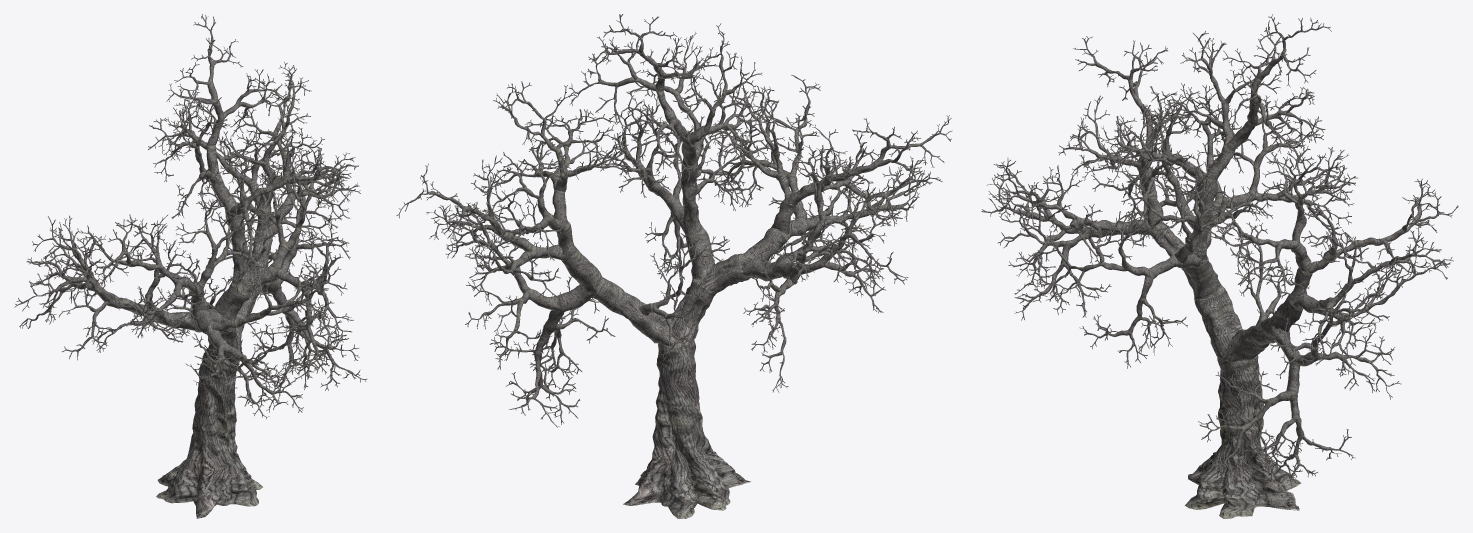
The model's file is linden.obj.
3 renders of one model, left to right at view 1: azimuth 30°, elevation 25°; view 2: azimuth 150°, elevation 25°; view 3: azimuth 270°, elevation 25°, orthographic. The views are drawn at different scales.
Visible parts, largest first — view 1: linden_1; view 2: linden_1; view 3: linden_1.
Part boxes in pixels (box(x1,y1,x2,y2)): linden_1: box(14, 14, 367, 518); linden_1: box(396, 14, 952, 518); linden_1: box(981, 14, 1458, 518).
Bounding box in the file's own units: 10.59 × 11.86 × 10.4.
1 material, 1 textured.
